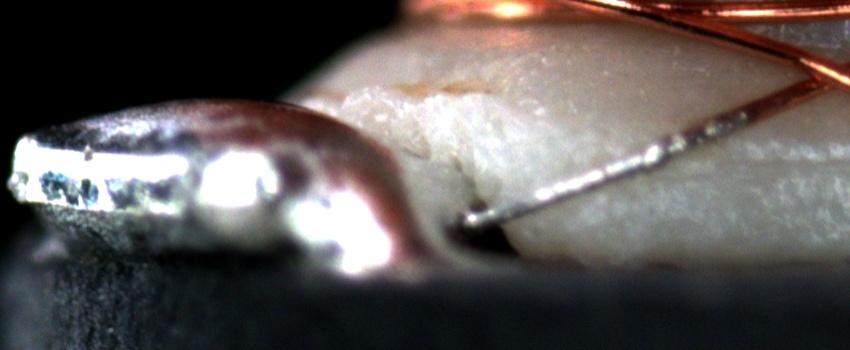CL: (779, 48, 845, 102)
DL: (724, 132, 850, 195)
TS: (465, 111, 749, 230)
TTCW: (455, 82, 788, 226)
